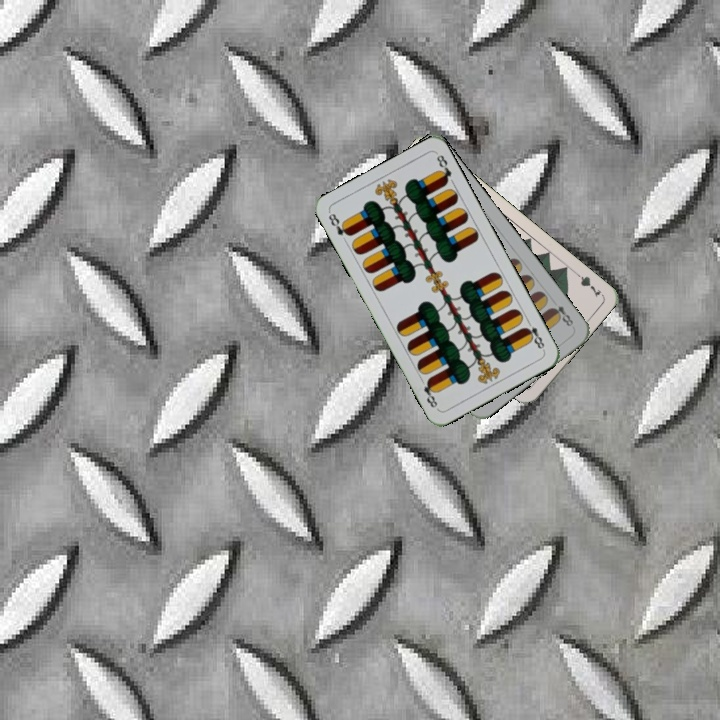E8: (520, 315, 547, 353), (546, 296, 576, 329), (324, 209, 353, 239)
G7: (570, 267, 604, 300)
